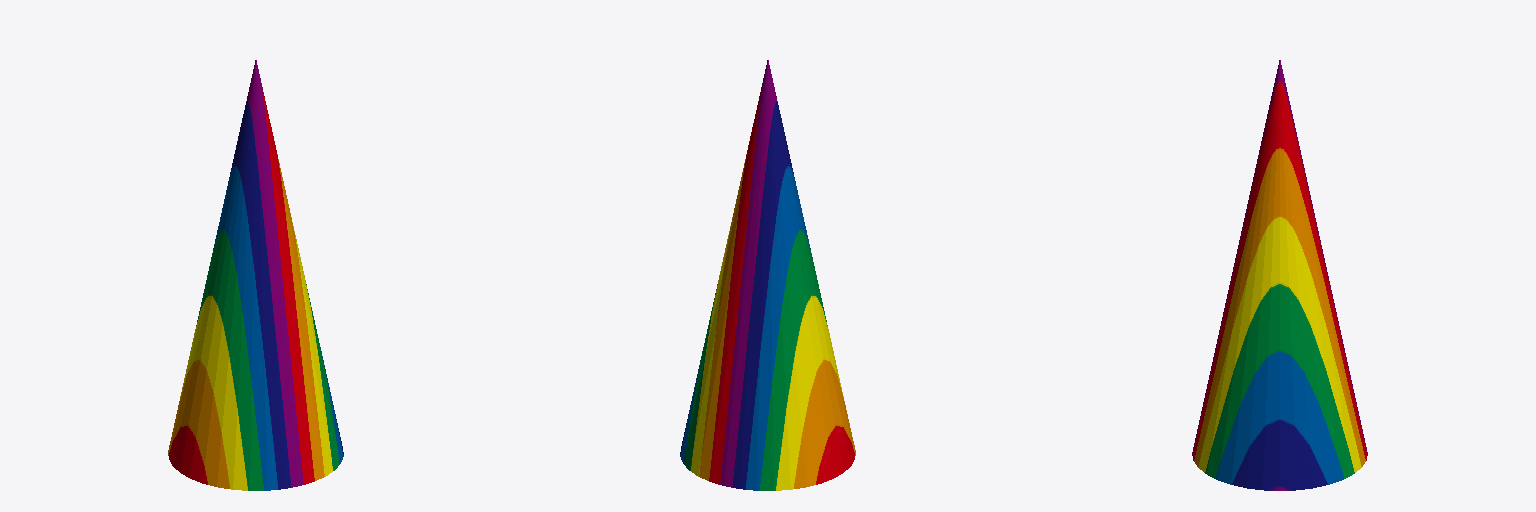
3 views of the same model, side by side, from view 1: azimuth 30°, elevation 25°; view 2: azimuth 150°, elevation 25°; view 3: azimuth 270°, elevation 25° (orthographic).
Visible parts, largest first — view 1: 円錐; view 2: 円錐; view 3: 円錐.
Part boxes in pixels (bbox=[...]): 円錐: bbox=[168, 60, 343, 490]; 円錐: bbox=[680, 60, 855, 490]; 円錐: bbox=[1192, 60, 1367, 490].
Size of the model in its own units: 2 by 4.96 by 2.
1 materials, 1 textured.